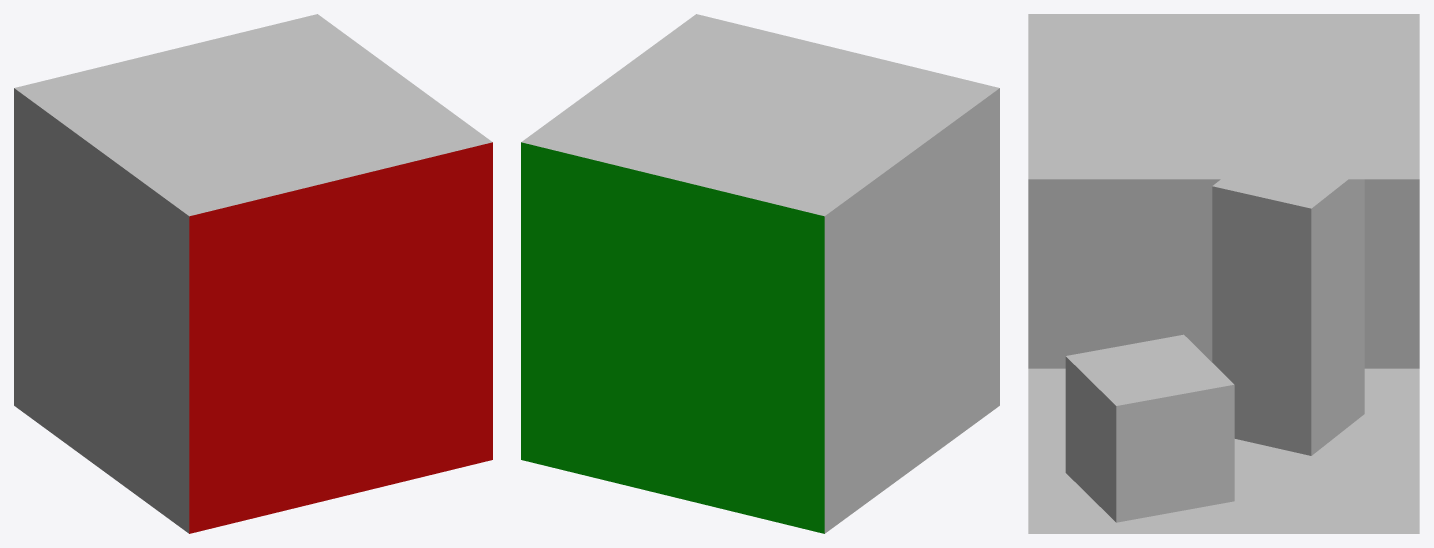
Rendered from cornell.obj.
3 views of the same model, side by side, from view 1: azimuth 30°, elevation 25°; view 2: azimuth 150°, elevation 25°; view 3: azimuth 270°, elevation 25° (orthographic). The views are drawn at different scales.
Visible parts, largest first — view 1: Cube.001; view 2: Cube.001; view 3: Cube.001, Cube.002, Cube.
Part boxes in pixels (<box>): Cube.001: <box>14,14,492,533</box>; Cube.001: <box>521,14,999,533</box>; Cube.001: <box>1028,14,1419,533</box>; Cube.002: <box>1212,179,1364,455</box>; Cube: <box>1065,334,1234,522</box>.
Bounding box in the file's own units: 2 × 2 × 2.
